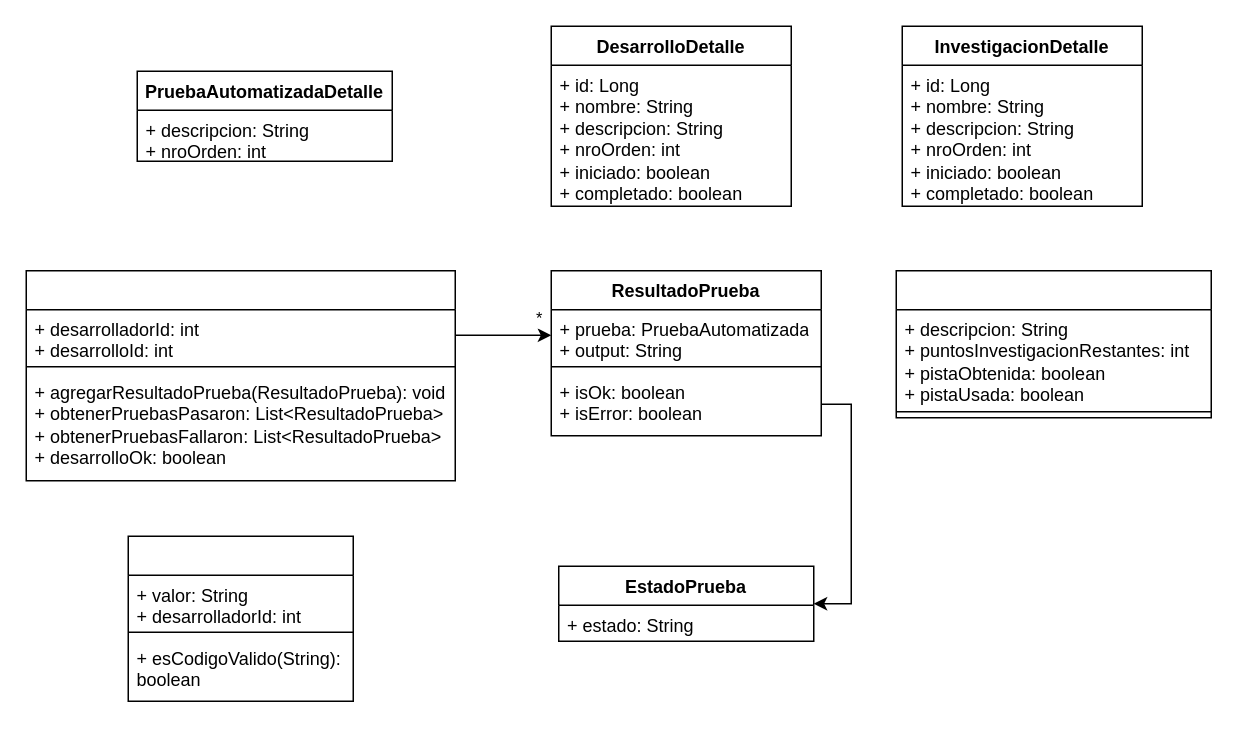
This 1238x732 diagram has some shape labels left out. The shapes that lost their labels are listed below. From the top down, each one's box as (x1, y1, x2, y2) in pixels, then its label:
(895, 269, 1211, 418): ResultadoObtencionPista
(25, 269, 455, 481): ResultadoDesarrollo
(127, 535, 353, 701): CodigoDesarrollador
